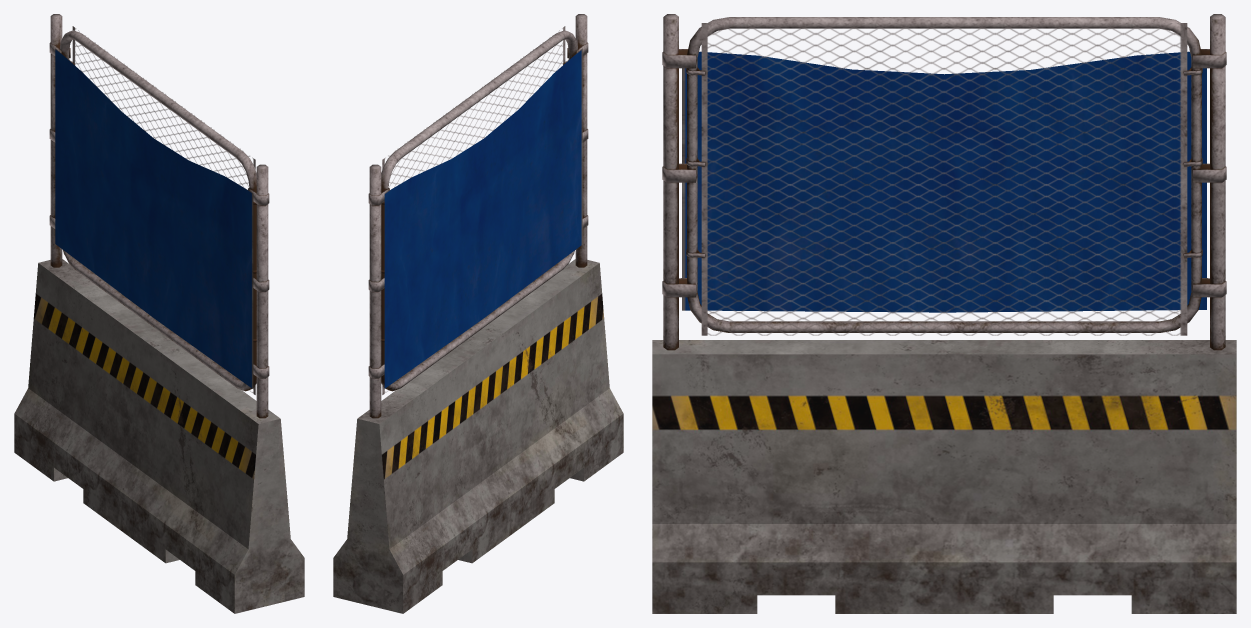
The model's file is Concrete barricade blue tarp.glb.
3 views of the same model, side by side, from view 1: azimuth 30°, elevation 25°; view 2: azimuth 150°, elevation 25°; view 3: azimuth 270°, elevation 25° (orthographic). The views are drawn at different scales.
Visible parts, largest first — view 1: Cube.008, Plane.006, Plane.002, Cylinder.005, Plane.003, Cylinder.006; view 2: Cube.008, Plane.006, Plane.002, Cylinder.005, Plane.003, Cylinder.006; view 3: Cube.008, Plane.006, Plane.003, Plane.002, Cylinder.005, Cylinder.006.
Part boxes in pixels (x1,y1,x2,y2): Cube.008: (14,259,304,613); Plane.006: (55,48,253,388); Plane.002: (59,30,256,391); Cylinder.005: (50,14,268,418); Plane.003: (72,26,255,394); Cylinder.006: (49,42,269,378); Cube.008: (333,259,623,613); Plane.006: (384,48,582,388); Plane.002: (381,30,578,391); Cylinder.005: (369,14,587,418); Plane.003: (382,26,565,394); Cylinder.006: (368,42,588,378); Cube.008: (652,340,1236,613); Plane.006: (682,51,1206,312); Plane.003: (701,23,1187,335); Plane.002: (687,17,1201,332); Cylinder.005: (663,14,1225,350); Cylinder.006: (662,49,1226,297).
Size of the model in its own units: 0.2027 by 1.2 by 1.11.
Materials: 1 (1 with a texture image).
